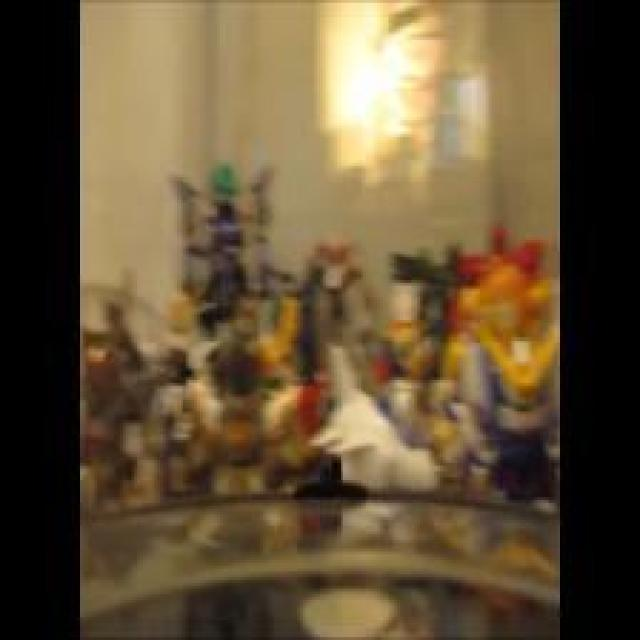other: (309, 17, 438, 141)
